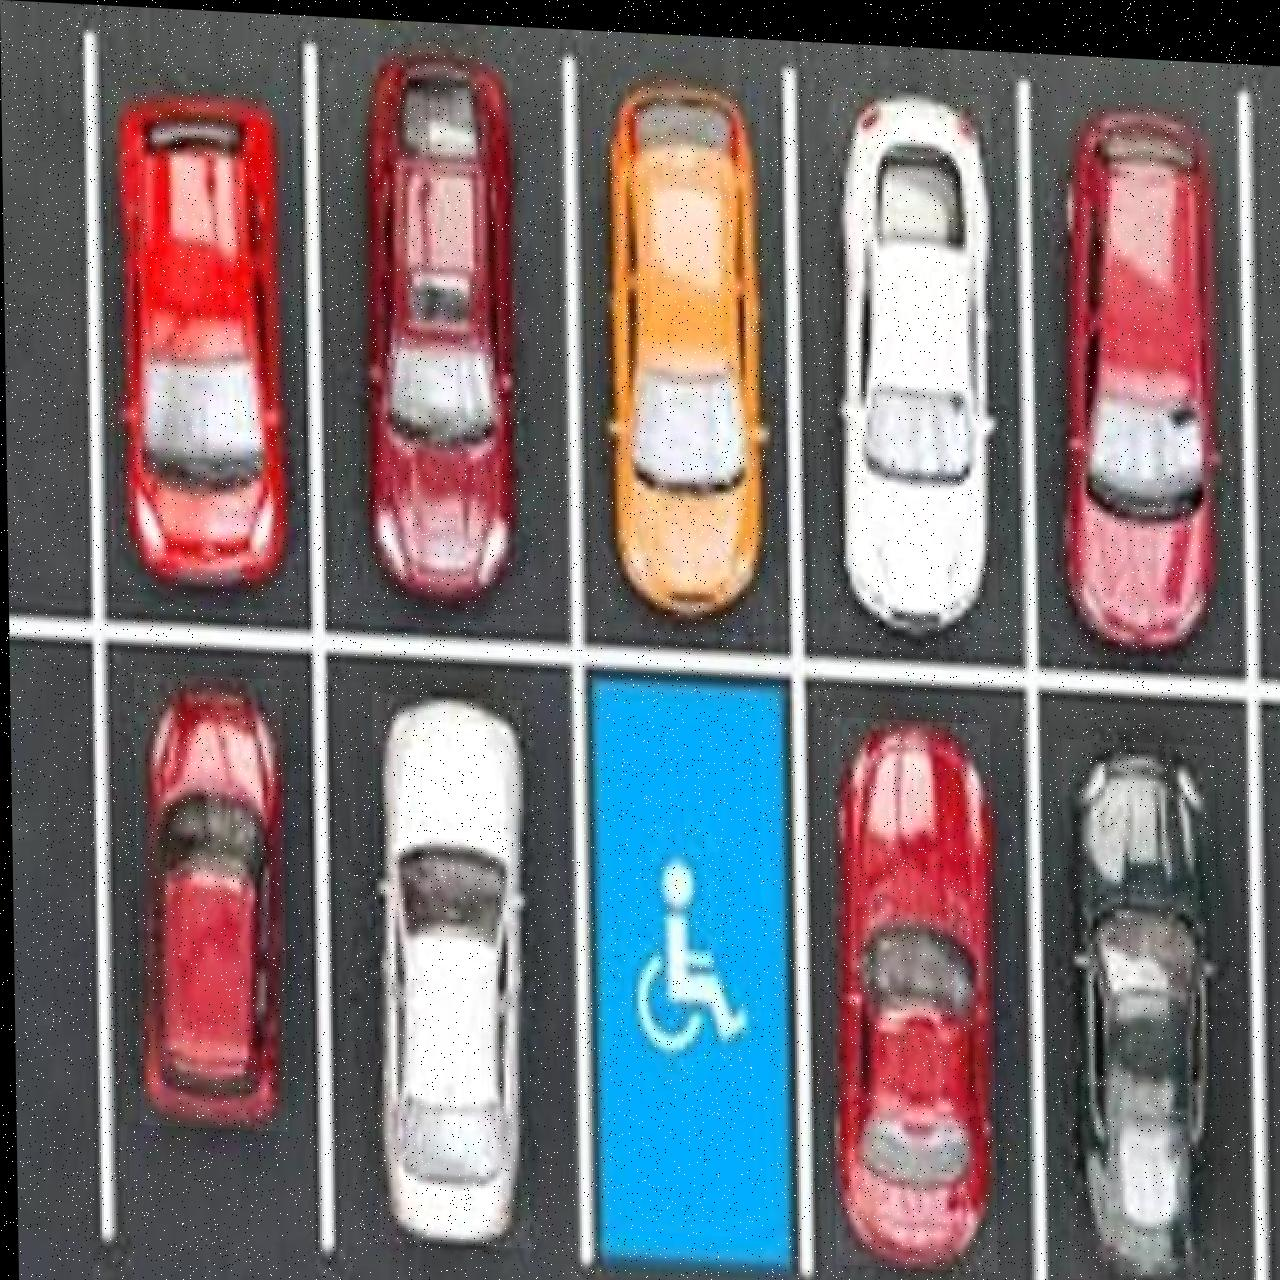car: (599, 70, 771, 617), (826, 707, 994, 1262), (1055, 91, 1223, 644), (832, 77, 996, 628), (356, 42, 517, 601), (113, 87, 288, 590), (1060, 727, 1218, 1273), (370, 689, 526, 1242), (131, 670, 285, 1129)
